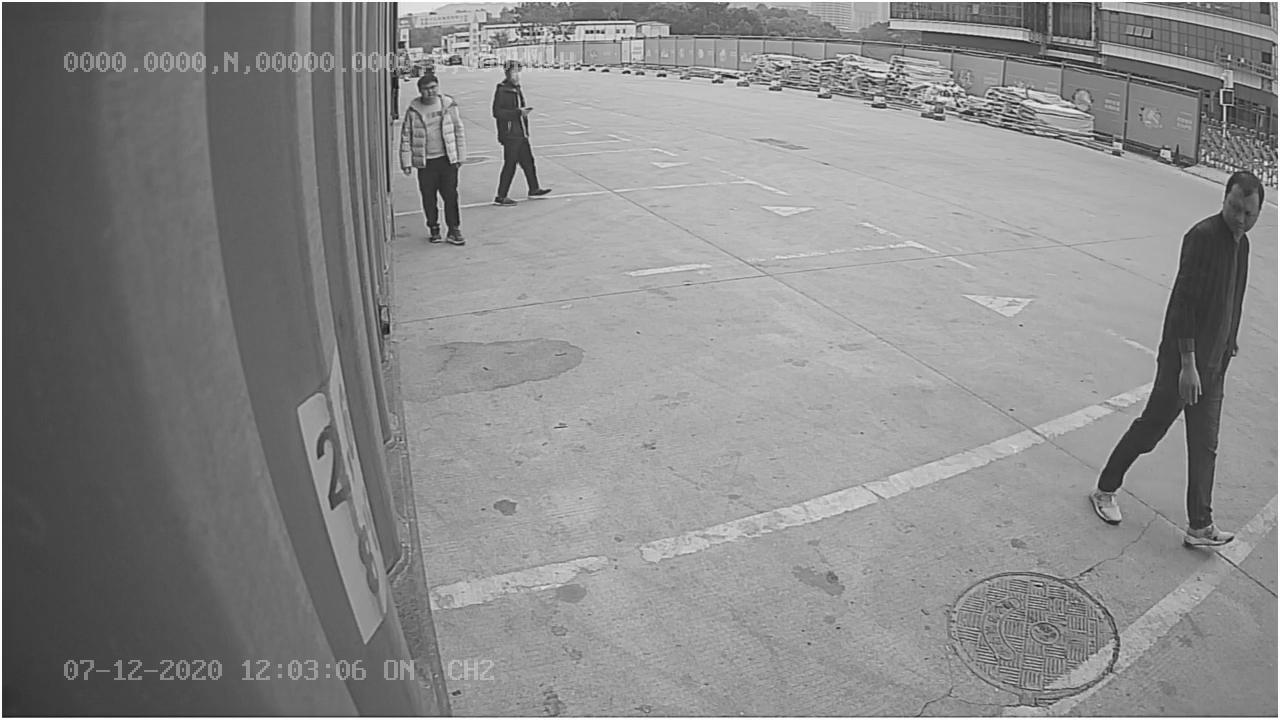person: (1090, 159, 1269, 549)
